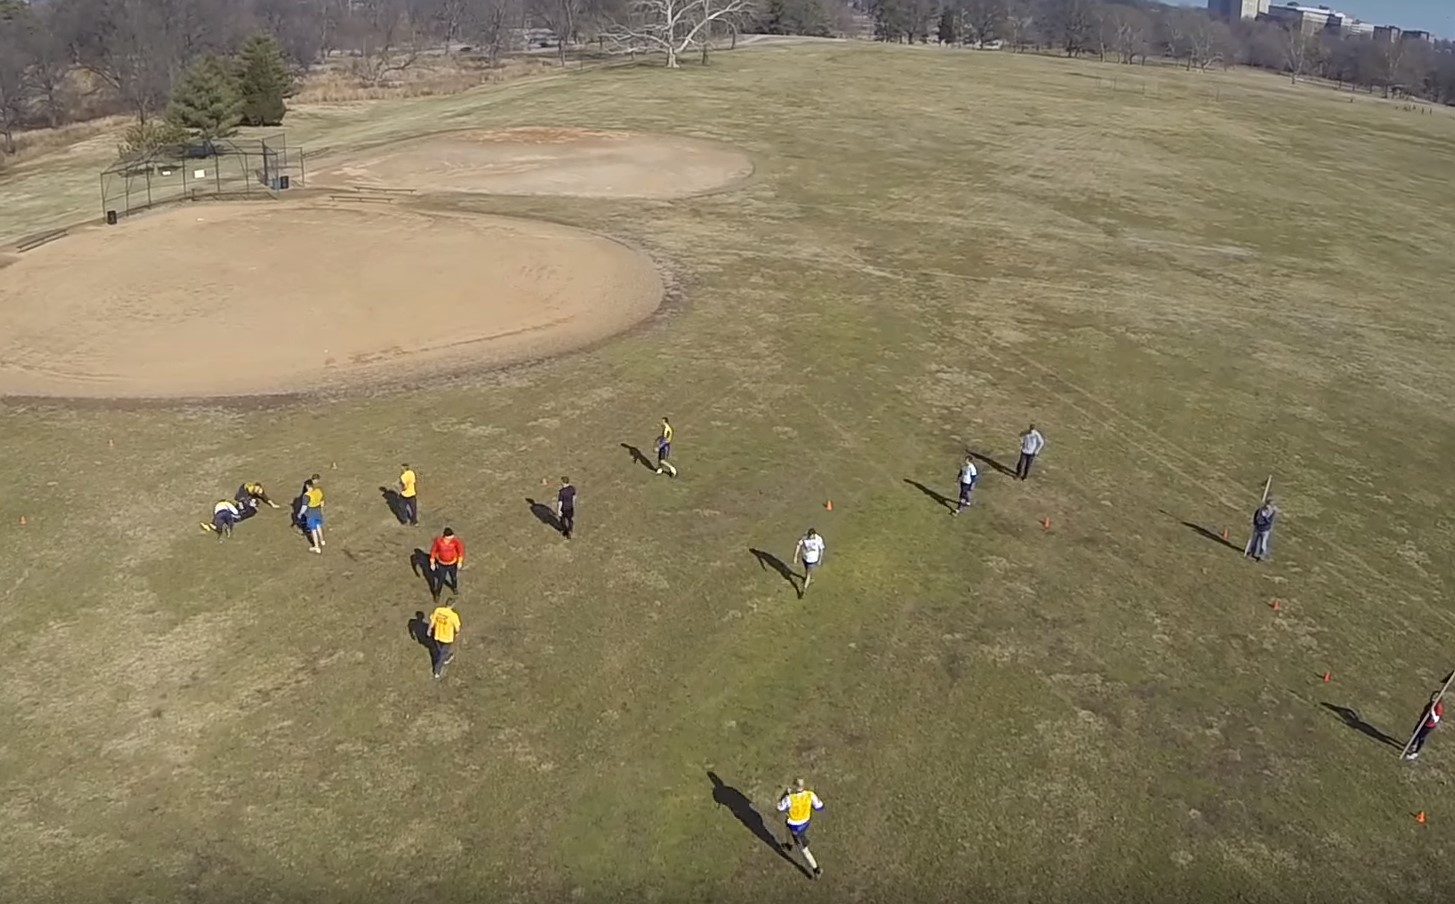insan: (773, 772, 827, 875), (417, 594, 462, 679), (425, 526, 466, 608), (294, 477, 332, 556), (1245, 495, 1279, 557), (794, 528, 825, 596), (1411, 691, 1443, 758), (554, 472, 582, 542), (393, 460, 423, 523), (654, 414, 681, 480), (950, 452, 976, 516), (1014, 421, 1042, 480), (212, 495, 240, 538)
